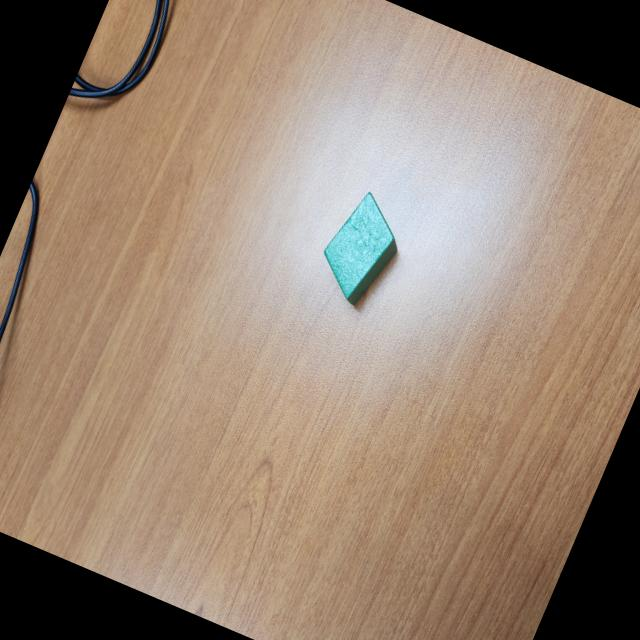green: (309, 185, 414, 313)
